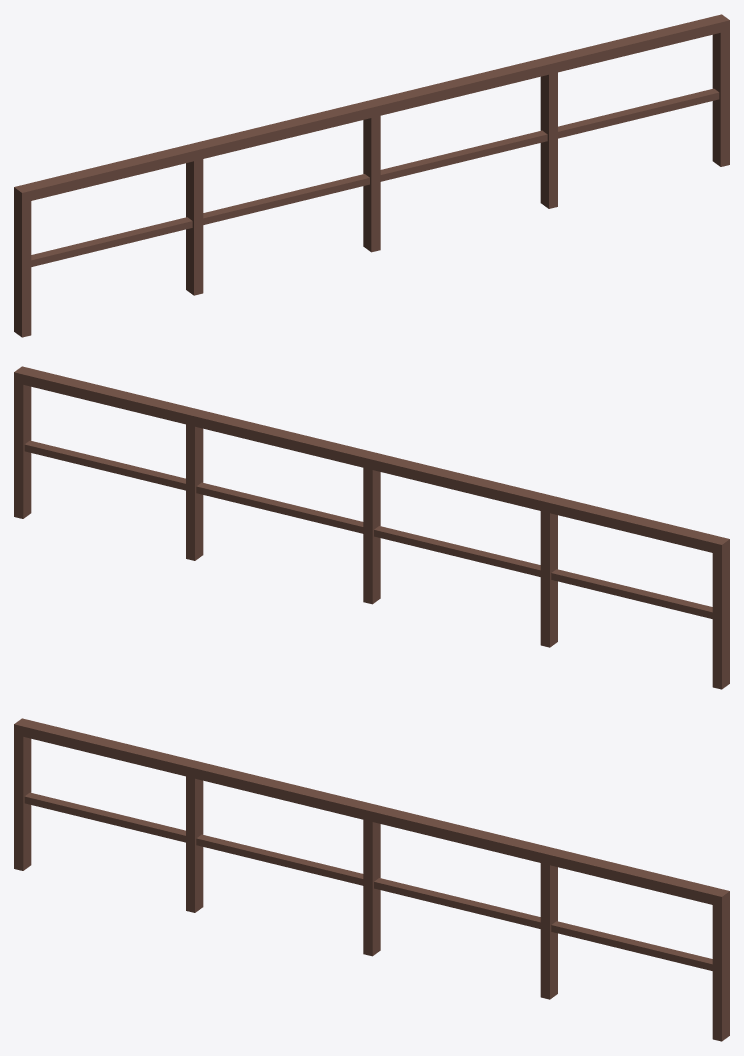
File: ladder_011.fbx
The picture shows the model from 3 angles, top to bottom: view 1: azimuth 30°, elevation 25°; view 2: azimuth 150°, elevation 25°; view 3: azimuth 330°, elevation 25°; orthographic projection.
Visible parts, largest first — view 1: ladder_011; view 2: ladder_011; view 3: ladder_011.
Part boxes in pixels (x1,y1,x2,y2): ladder_011: (14,14,729,337); ladder_011: (14,366,729,689); ladder_011: (14,718,729,1041).
Bounding box in the file's own units: 400 × 7.93 × 78.1.
